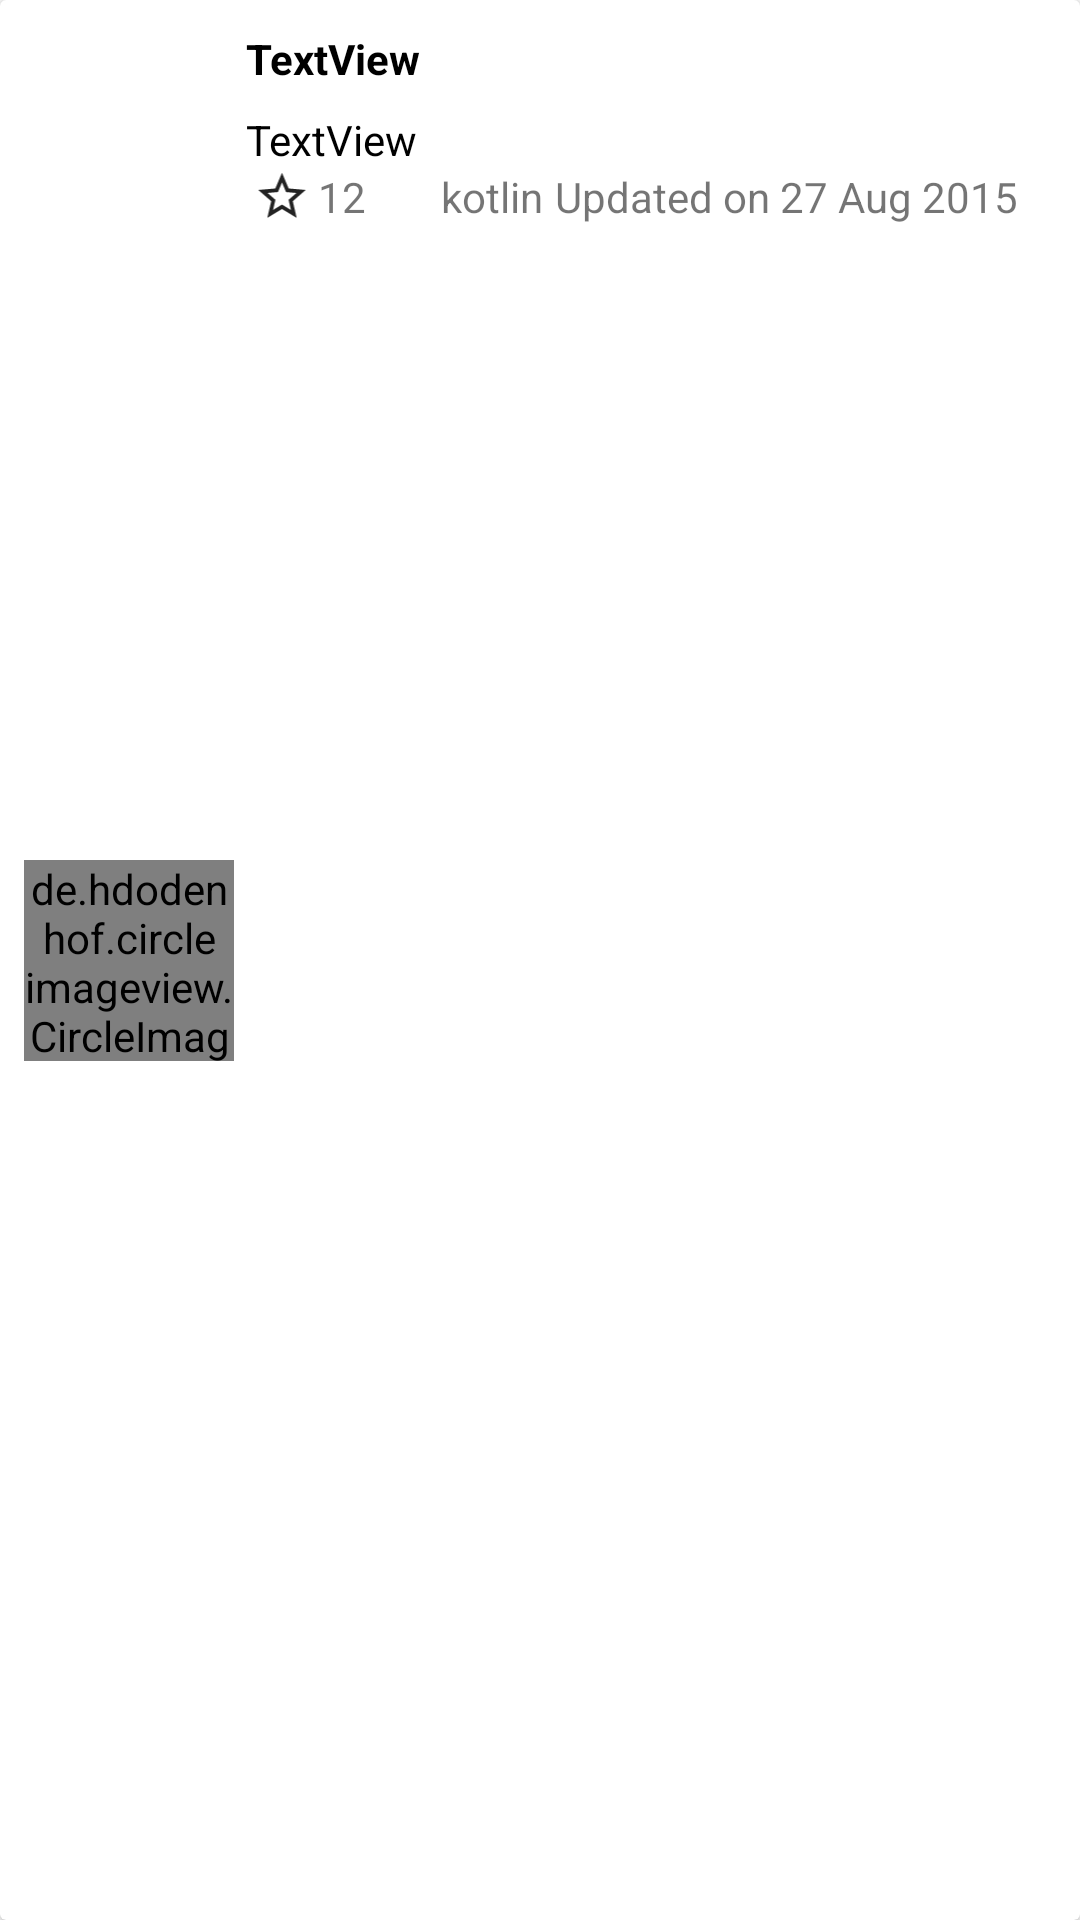

Icon click points for this 1080 × 1920 phone screenshot, format (x=x, y=y):
star: (x=282, y=195)
